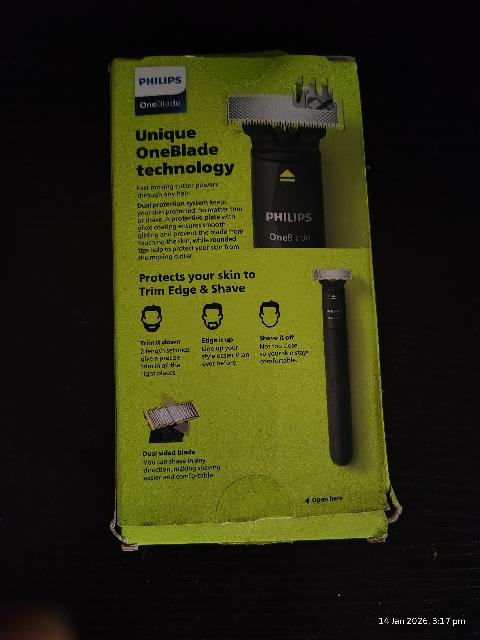phillips oneblade: (114, 61, 388, 540)
